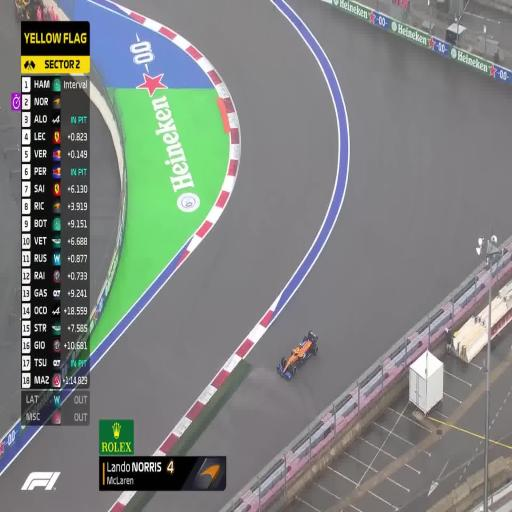f1_car: (277, 330, 318, 378)
